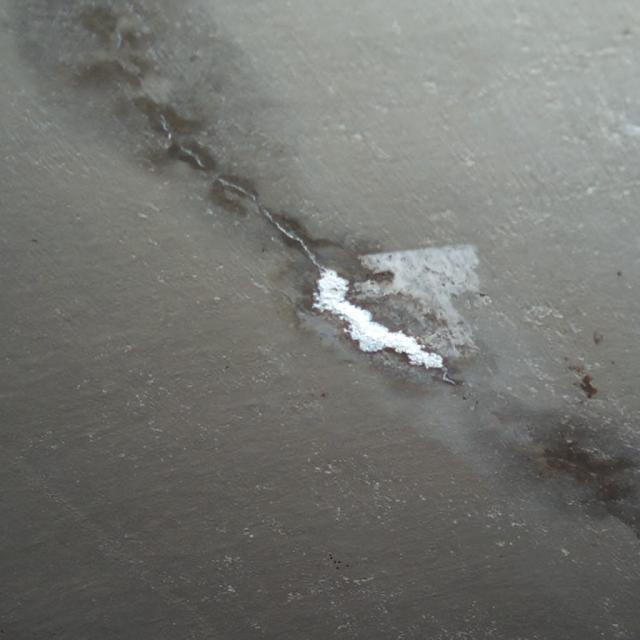D01: (314, 274, 443, 371), (362, 246, 478, 317)
